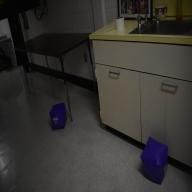cube: (140, 136, 168, 184), (49, 102, 68, 132)
